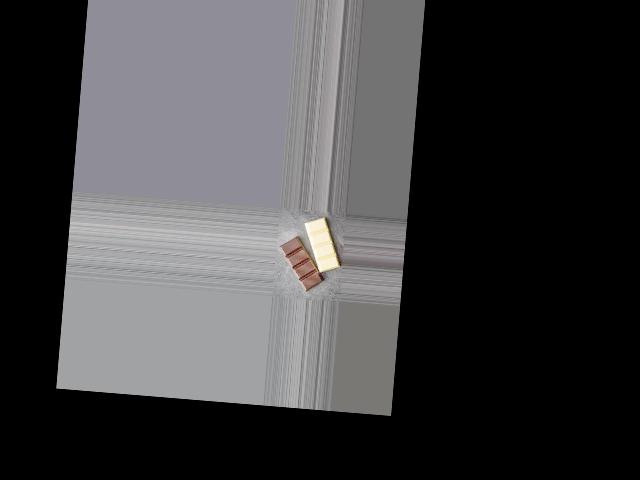chocolate: (277, 210, 343, 293)
